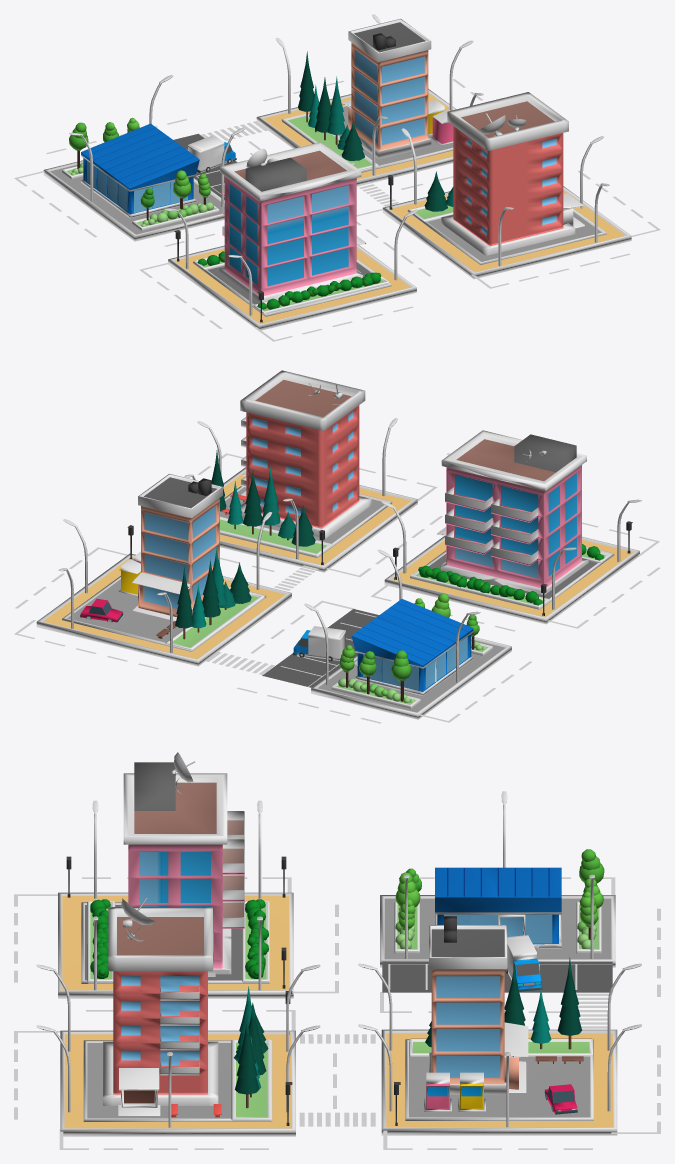
Rendered from city.gltf.
The picture shows the model from 3 angles, top to bottom: view 1: azimuth 30°, elevation 25°; view 2: azimuth 150°, elevation 25°; view 3: azimuth 270°, elevation 25°; orthographic projection. The views are drawn at different scales.
Visible parts, largest first — view 1: city; view 2: city; view 3: city.
Boxes of the visible parts, <box> form: city: <box>14,14,660,341</box>; city: <box>14,370,660,723</box>; city: <box>14,752,660,1149</box>.
Size of the model in its own units: 1906 by 609 by 1911.
2 materials, 2 textured.
